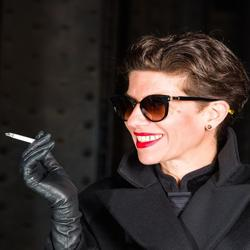smoking: (4, 130, 78, 199)
